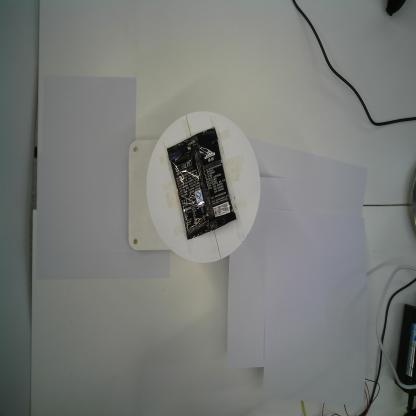Instant Drink: (166, 126, 237, 241)
